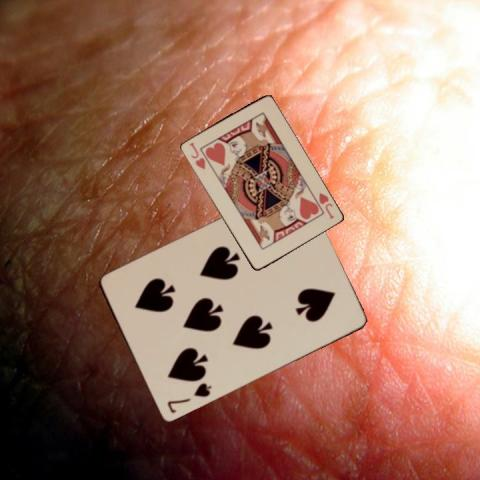7s: (164, 380, 213, 415)
Jh: (186, 139, 207, 171), (316, 189, 336, 221)
